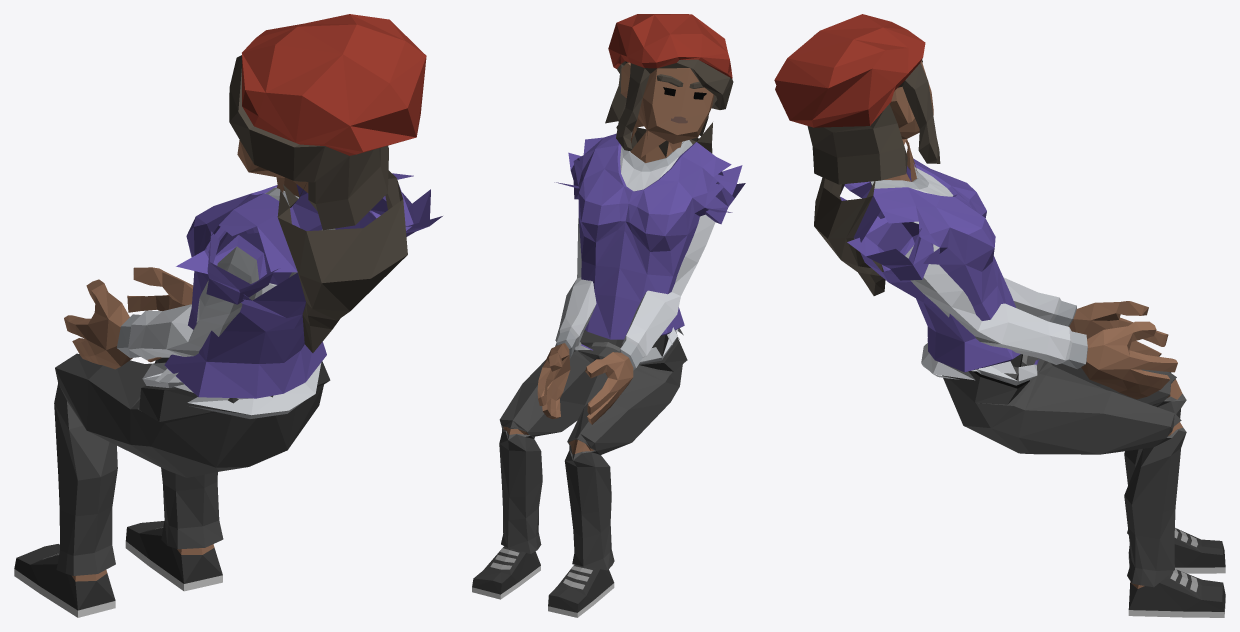
Rendered from Ward_guitar.obj.
3 views of the same model, side by side, from view 1: azimuth 30°, elevation 25°; view 2: azimuth 150°, elevation 25°; view 3: azimuth 270°, elevation 25° (orthographic). The views are drawn at different scales.
Parts seen in each view (by area): view 1: Ward_guitar; view 2: Ward_guitar; view 3: Ward_guitar.
Boxes of the visible parts, x1,y1,x2,y2 form: Ward_guitar: (14, 14, 442, 617); Ward_guitar: (472, 14, 745, 617); Ward_guitar: (774, 14, 1225, 617).
Bounding box in the file's own units: 0.5388 × 1.43 × 1.04.
Materials: 1 (1 with a texture image).
